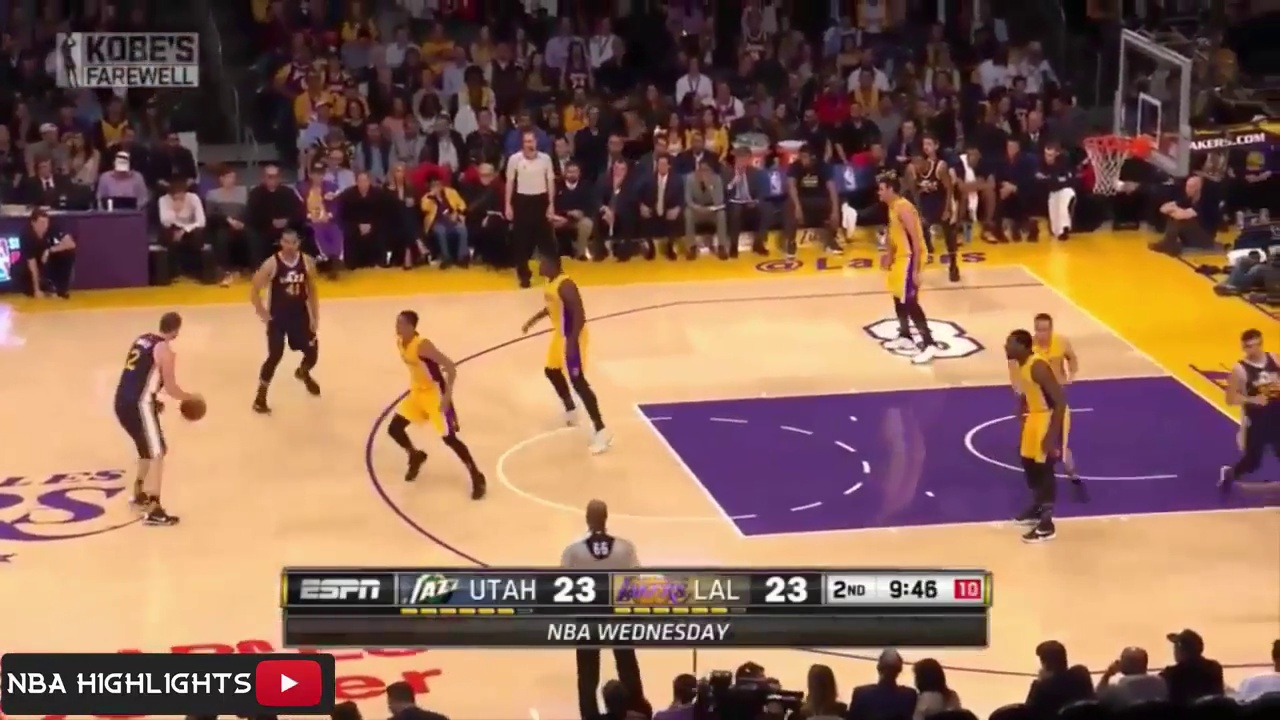jazz: (116, 313, 211, 535), (245, 227, 336, 417), (1213, 322, 1280, 501), (908, 151, 966, 287)
lakers: (375, 306, 491, 501), (515, 253, 617, 443), (1002, 333, 1076, 540), (874, 178, 935, 363), (1035, 312, 1097, 478)
